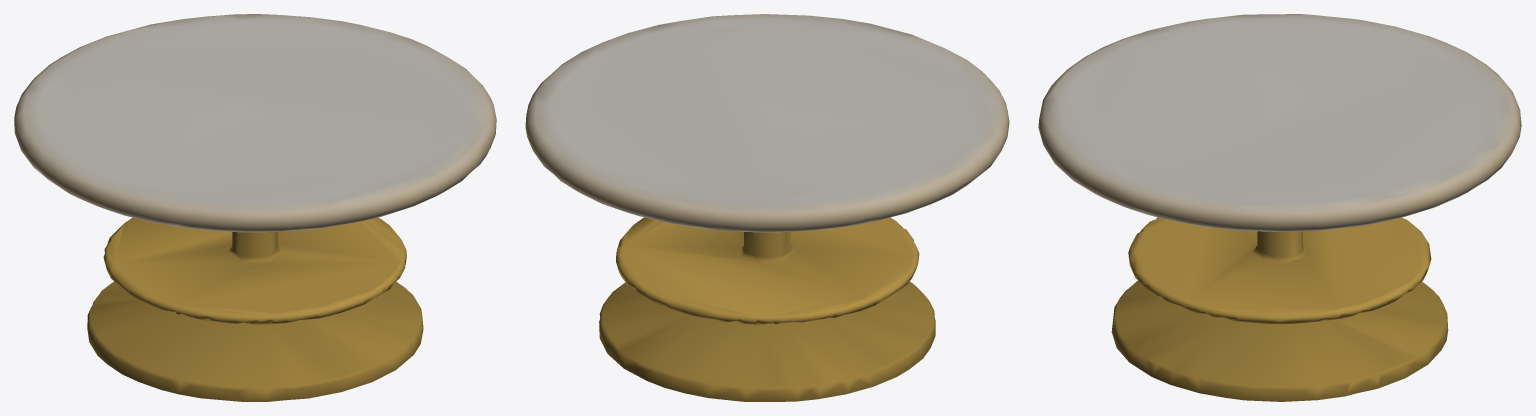
The model's file is lumiere-coffee-table.glb.
3 views of the same model, side by side, from view 1: azimuth 30°, elevation 25°; view 2: azimuth 150°, elevation 25°; view 3: azimuth 270°, elevation 25° (orthographic).
Visible parts, largest first — view 1: lumiere-coffee-table_LOD0; view 2: lumiere-coffee-table_LOD0; view 3: lumiere-coffee-table_LOD0.
Boxes of the visible parts, x1,y1,x2,y2 form: lumiere-coffee-table_LOD0: (14,14,496,401); lumiere-coffee-table_LOD0: (525,14,1009,401); lumiere-coffee-table_LOD0: (1038,14,1521,401).
Size of what is drawn, in the model's own units: 0.8902 by 0.4454 by 0.8898.
